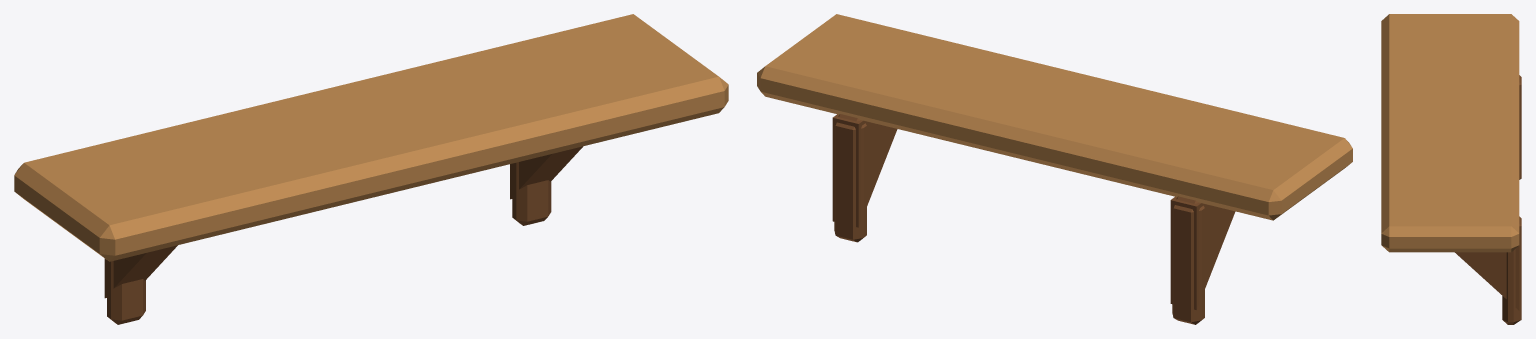
Rendered from wall_shelf.glb.
The picture shows the model from 3 angles, left to right: view 1: azimuth 30°, elevation 25°; view 2: azimuth 150°, elevation 25°; view 3: azimuth 270°, elevation 25°; orthographic projection. The views are drawn at different scales.
Parts seen in each view (by area): view 1: wall_shelf; view 2: wall_shelf; view 3: wall_shelf.
Boxes of the visible parts, x1=… form: wall_shelf: x1=14, y1=14, x2=728, y2=324; wall_shelf: x1=757, y1=14, x2=1352, y2=324; wall_shelf: x1=1381, y1=14, x2=1521, y2=324.
Bounding box in the file's own units: 0.9 × 0.25 × 0.244.
